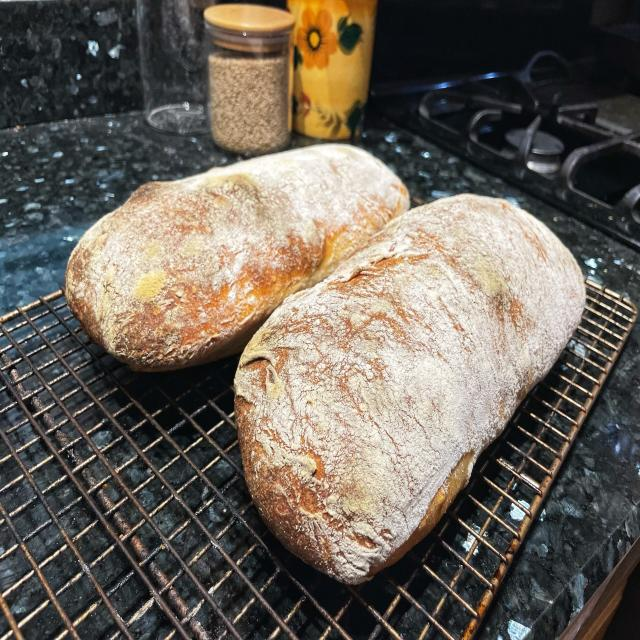Ciabatta: (234, 194, 585, 584), (65, 144, 410, 371)
